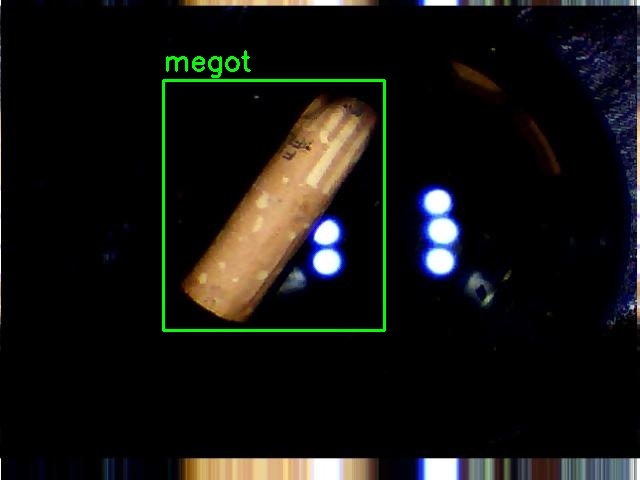megot: (163, 80, 384, 330)
